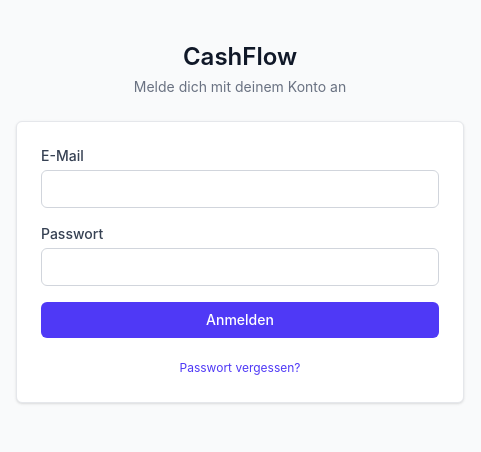
it: Login › shows error message on invalid credentials
Type "wrong@test.com" into the field labelled "E-Mail" at (240, 189), box [41,170,439,208]
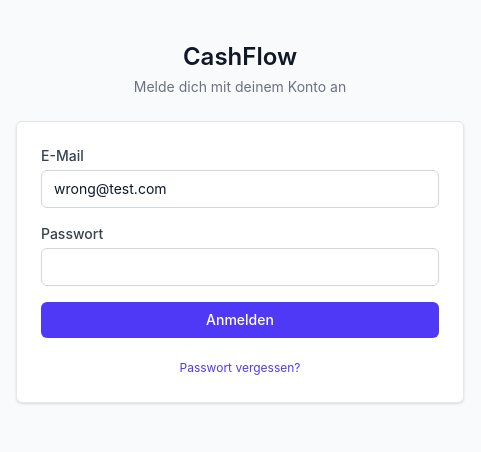
Type "wrong" into the password field labelled "Passwort" at (240, 267), box [41,248,439,286]
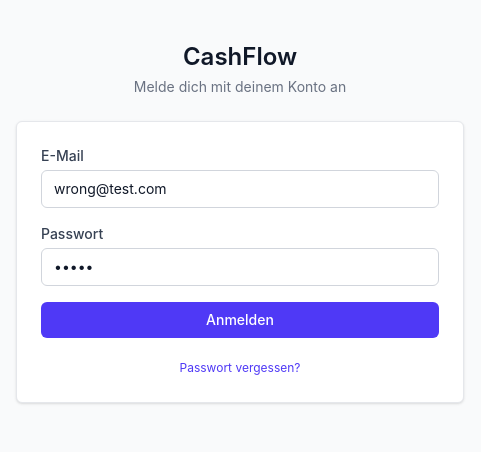
Click the button "Anmelden" at (240, 320), box [41,302,439,338]
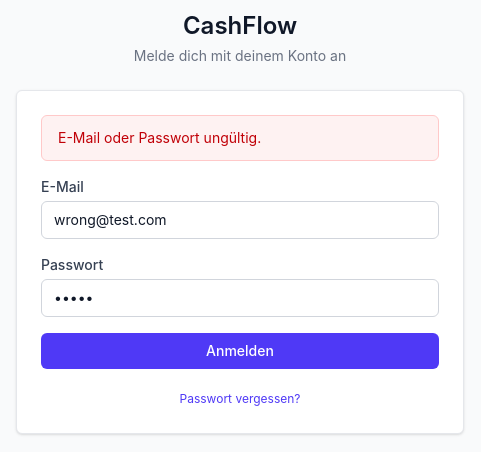
Now the message shows "ungültig", box [58,129,261,146]
